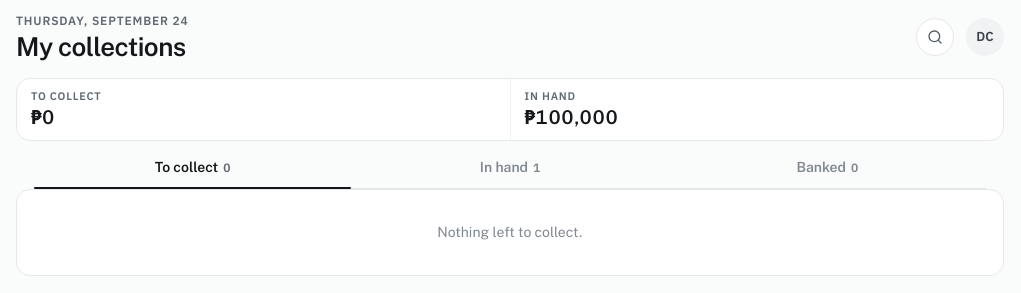
it: the collector’s round › keeps what is in hand on its own tab, and says what has to happen to it
This screenshot has width=1021, height=293.
What coordinates should you click on to do the following:
click the tab "In hand1"
I would click on:
 (510, 172)
Its box is [351,157,669,188].
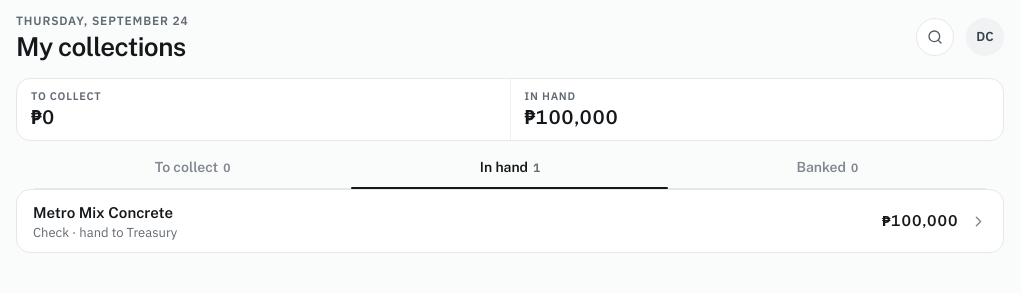
Check: the text "Check · hand to Treasury" is shown, box [33,224,177,241]
